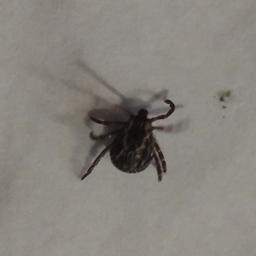Dermacentor variabilis: (79, 96, 176, 184)
